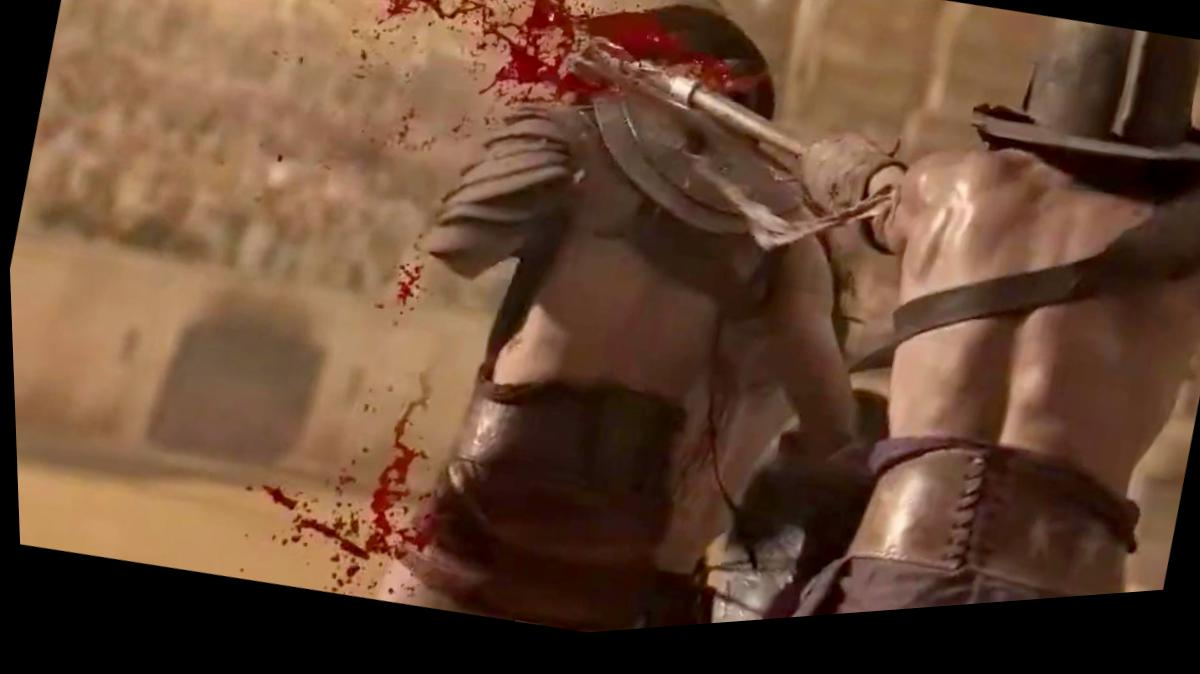Fire: (360, 0, 774, 127), (258, 380, 428, 600), (389, 251, 422, 331)
